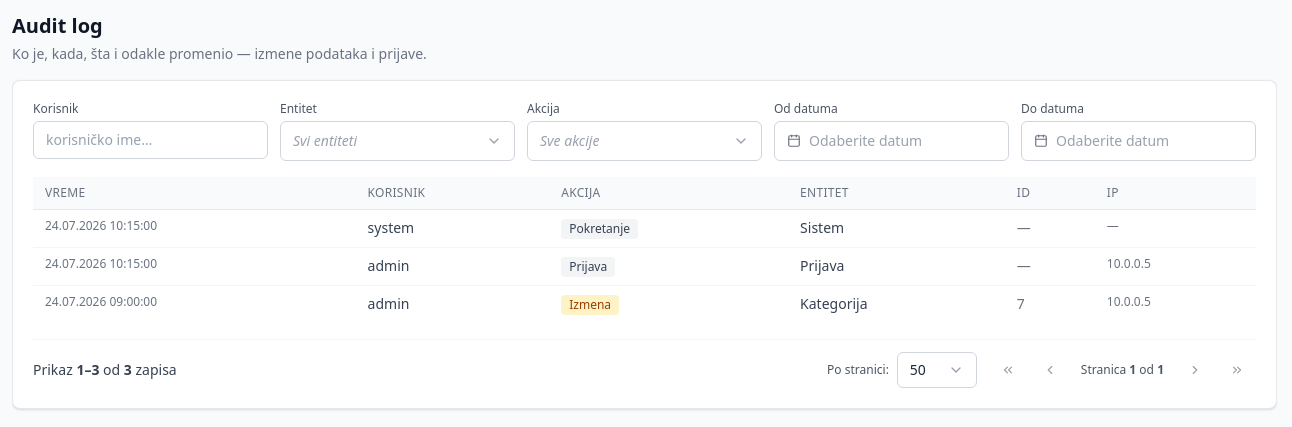
Test case: AuditLogPage › filter „Entitet" nudi listu sa backenda
Click the dropdown labelled "entitet". click: (398, 141)
box: [280,121,515,161]
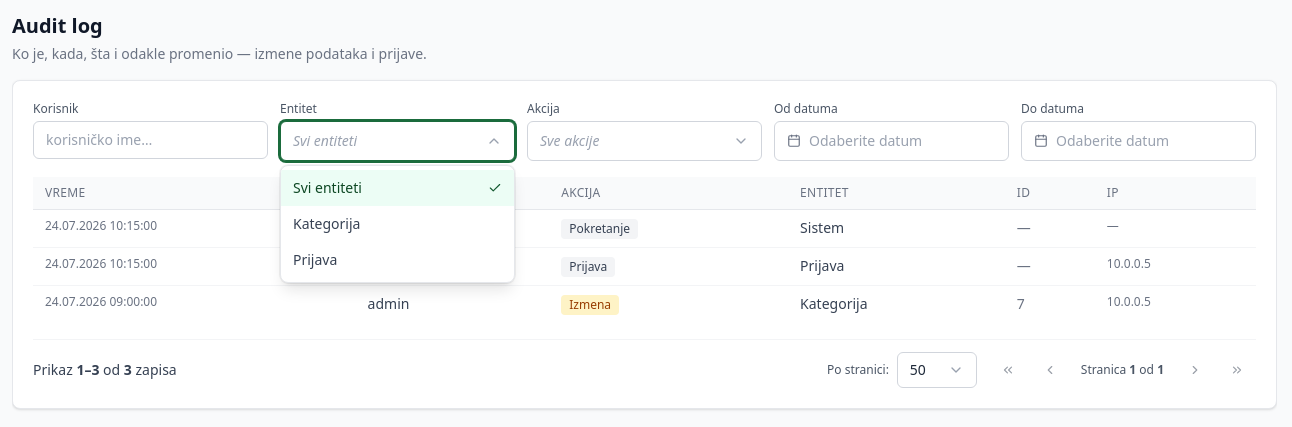
Click the option "Kategorija". click: (327, 224)
box: [293,214,360,233]
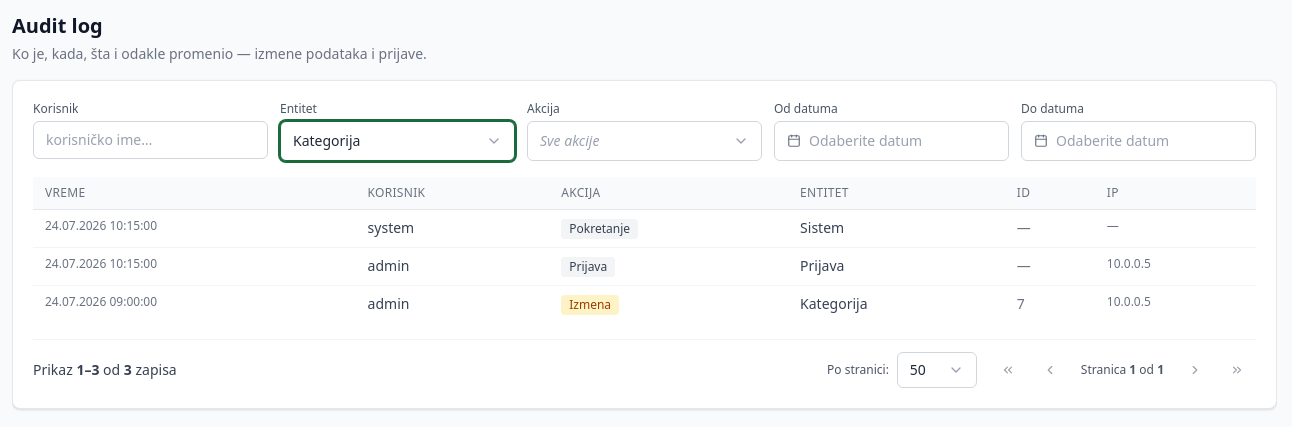
Check: the text "Kategorija" is shown, box [293,131,360,151]
